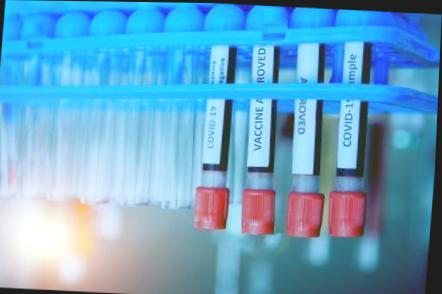Fire: (338, 100, 369, 175), (249, 99, 277, 171), (204, 98, 232, 170), (314, 99, 323, 174), (362, 41, 372, 82), (226, 46, 236, 82), (317, 43, 325, 80), (272, 46, 280, 81)
